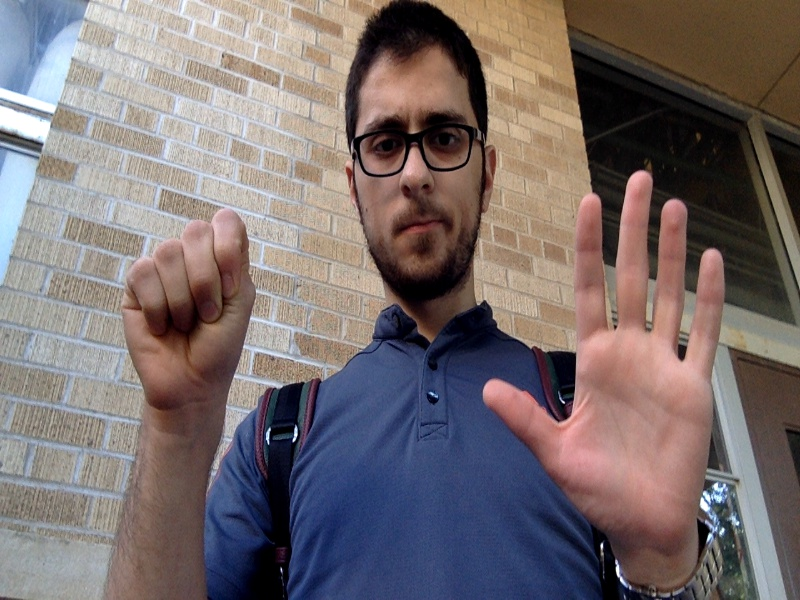0-hand: (120, 209, 254, 408)
5-hand: (482, 171, 724, 547)
